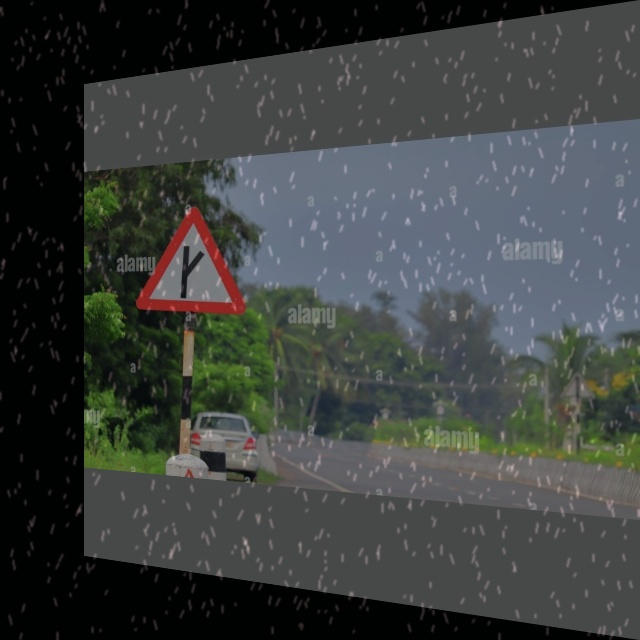Y_Intersection: (138, 198, 241, 316)
